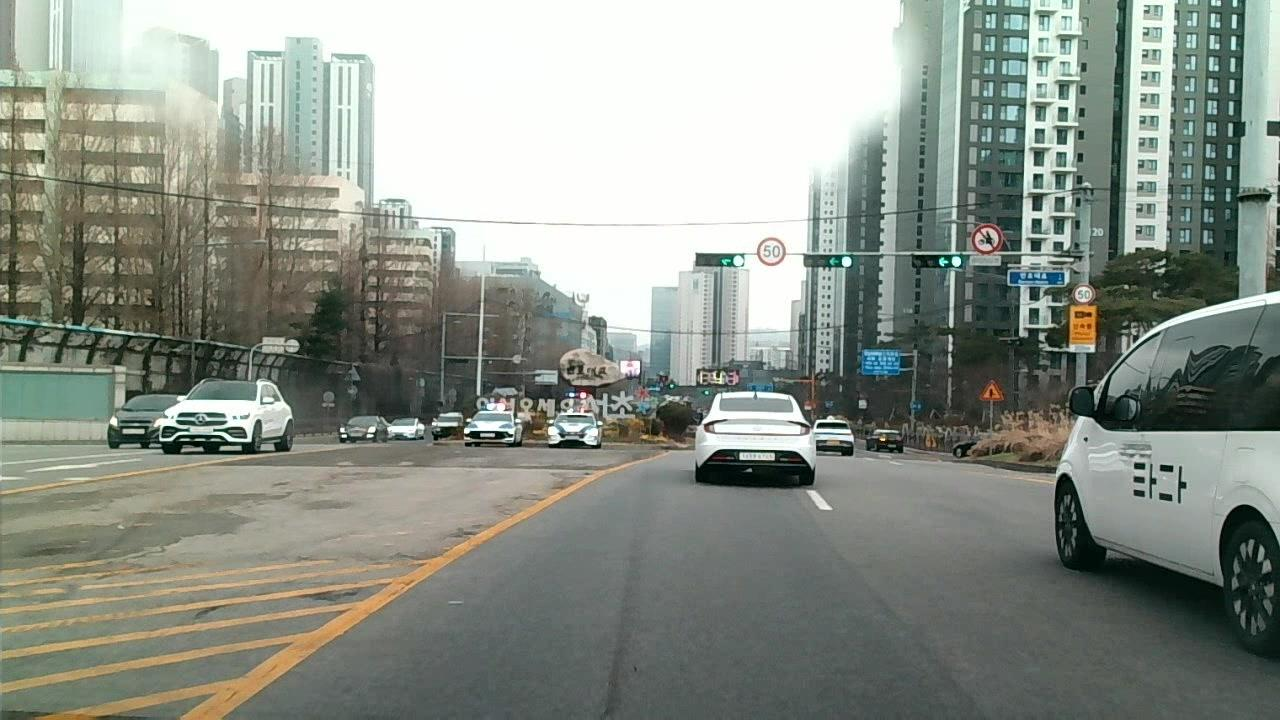hcrack: (140, 551, 410, 575)
vcrack: (422, 478, 570, 565)
